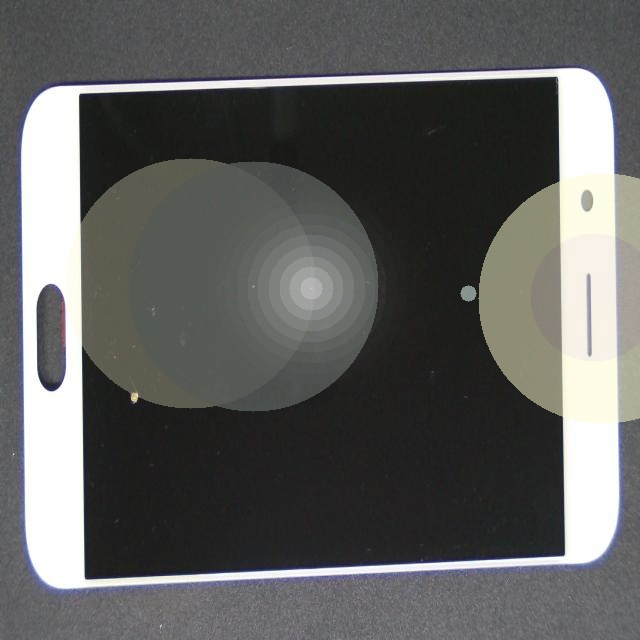stain: (76, 149, 189, 554)
